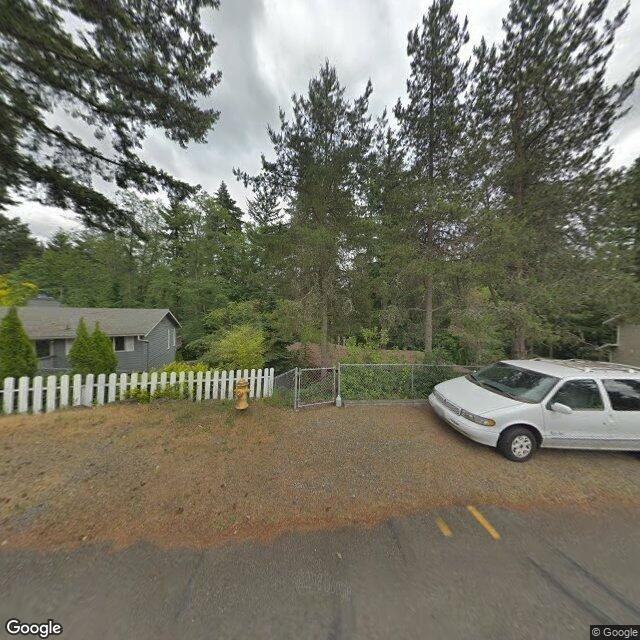hydrant: (232, 373, 252, 413)
